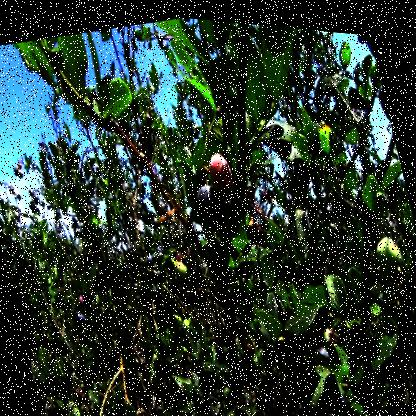intermediate: (203, 144, 243, 201)
mature: (191, 171, 230, 220), (144, 251, 157, 268)
young: (371, 223, 414, 283), (172, 253, 193, 281)
